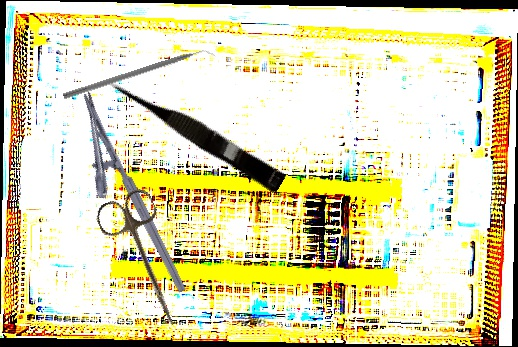Chopper: (62, 45, 217, 107)
Iris Scissors: (91, 185, 203, 336)
Micro Scissor: (105, 69, 289, 195)
Needle Holder: (54, 91, 188, 307)
